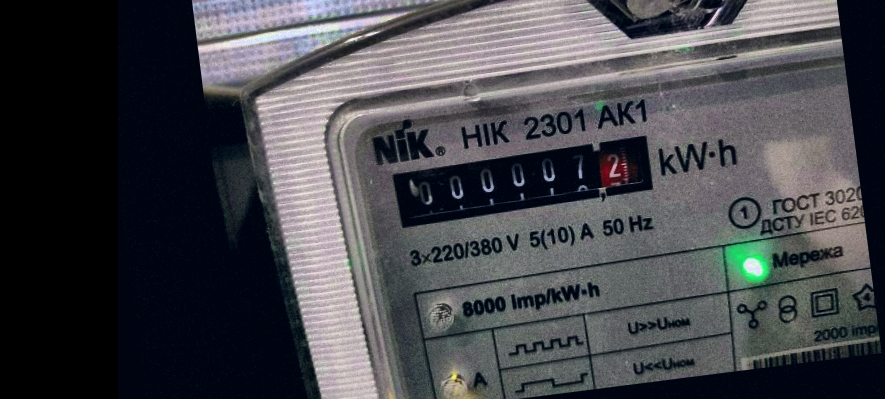0: (415, 177, 435, 206), (508, 159, 528, 188), (477, 164, 496, 194), (539, 154, 558, 184), (447, 171, 466, 200)
2: (604, 151, 623, 179)
7: (570, 149, 588, 181)
screen: (380, 127, 666, 234)
